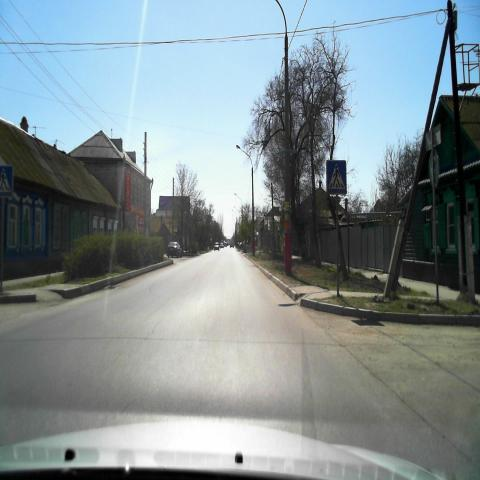5_19_1: (326, 160, 346, 194), (0, 166, 14, 196)
